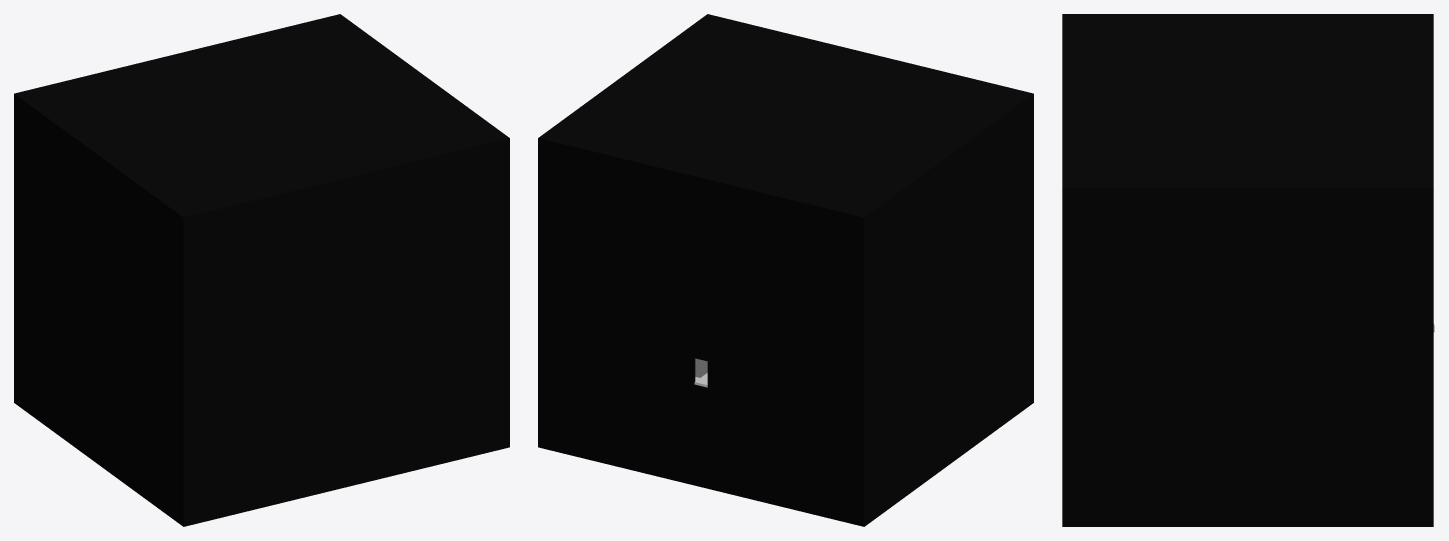
File: piano_room.obj
3 renders of one model, left to right at view 1: azimuth 30°, elevation 25°; view 2: azimuth 150°, elevation 25°; view 3: azimuth 270°, elevation 25°, orthographic. The views are drawn at different scales.
Parts seen in each view (by area): view 1: piano_no_skybox; view 2: piano_no_skybox; view 3: piano_no_skybox.
Boxes of the visible parts, left/top/right/bottom form: piano_no_skybox: left=14, top=14, right=509, bottom=526; piano_no_skybox: left=538, top=14, right=1033, bottom=526; piano_no_skybox: left=1062, top=14, right=1434, bottom=526.
Size of the model in its own units: 100 by 94.66 by 90.2.
